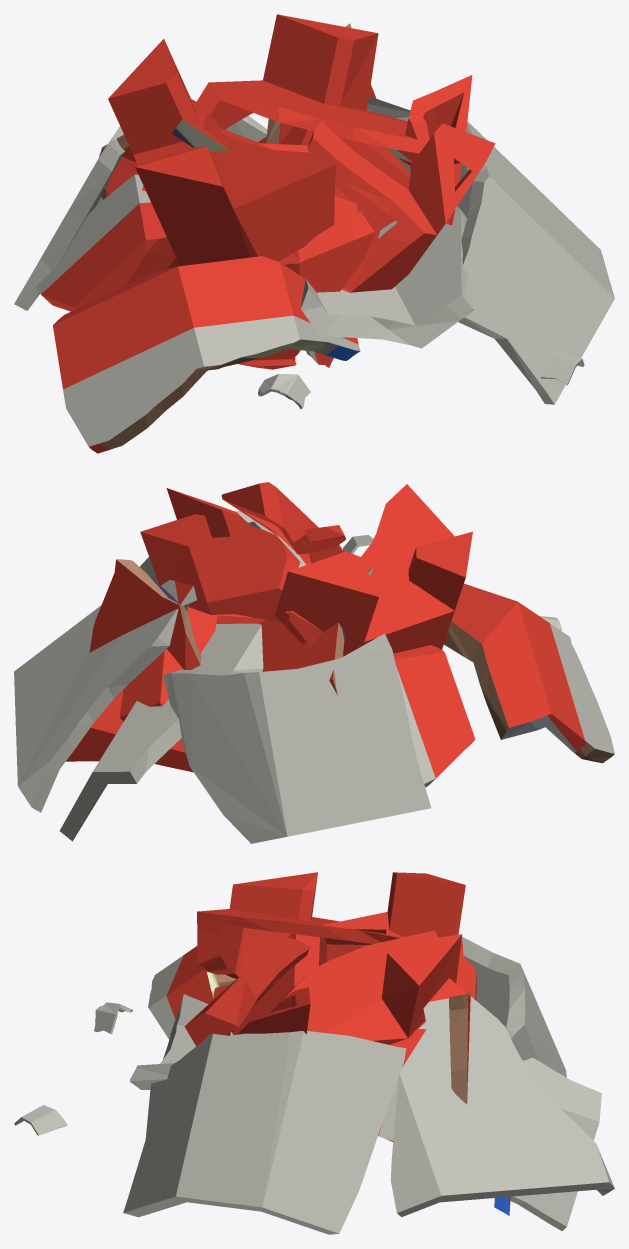
The model's file is PSJT_01.FBX.
3 views of the same model, one above another, from view 1: azimuth 30°, elevation 25°; view 2: azimuth 150°, elevation 25°; view 3: azimuth 270°, elevation 25° (orthographic). The views are drawn at different scales.
Parts seen in each view (by area): view 1: PSJT_01; view 2: PSJT_01; view 3: PSJT_01.
Boxes of the visible parts, left/top/right/bottom form: PSJT_01: left=14, top=14, right=614, bottom=453; PSJT_01: left=14, top=482, right=614, bottom=843; PSJT_01: left=14, top=872, right=614, bottom=1234.
Size of the model in its own units: 1.96 by 1.05 by 2.13.
